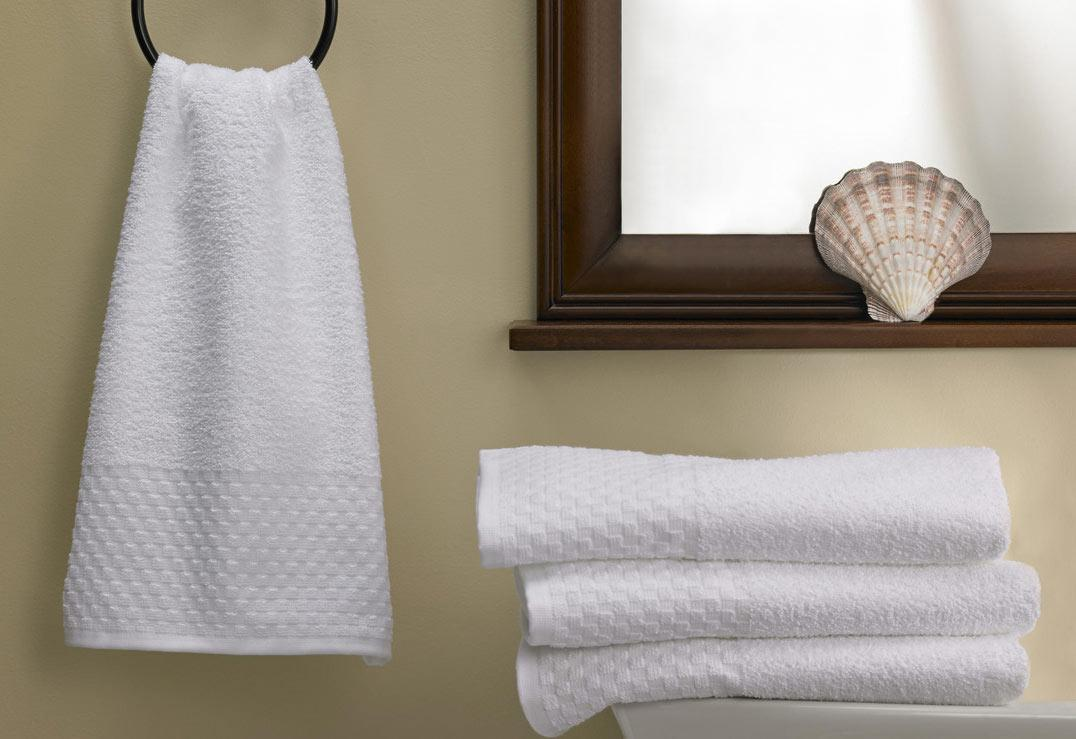towel: (445, 427, 1040, 572)
